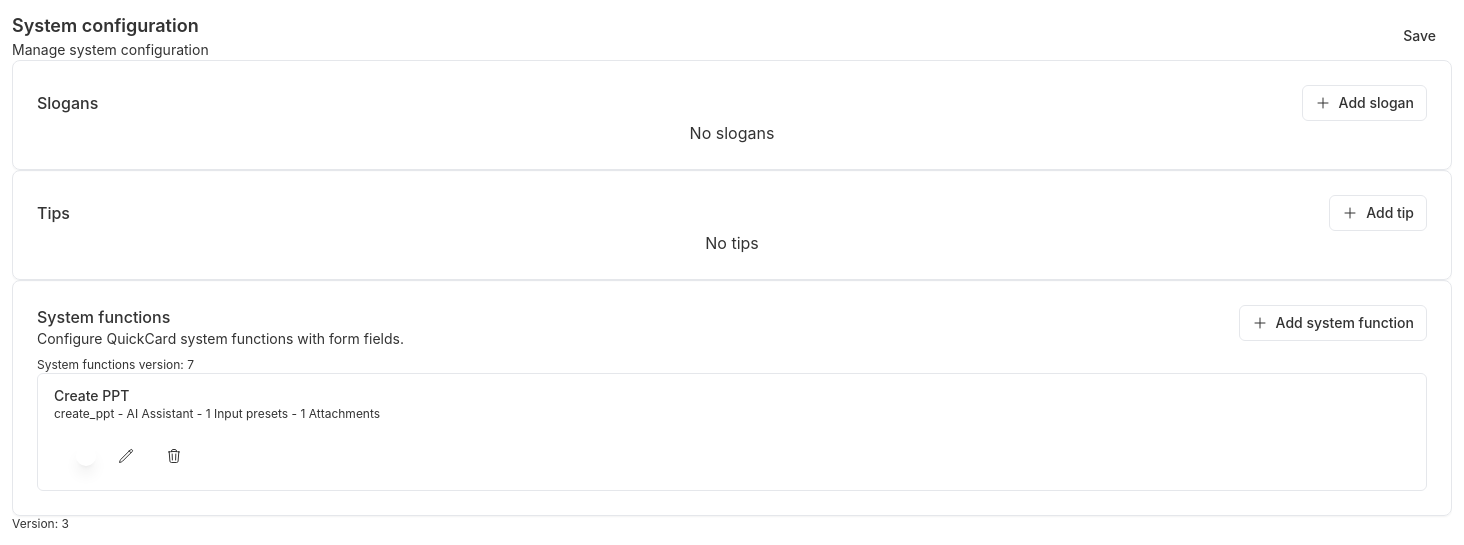
Test: SystemConfigPanel › keeps successful sections when saving partially fails
The image size is (1464, 545).
Expected: the element with test id "quick-launch-functions-section" is shown, left=12, top=280, right=1452, bottom=516
Click the button "Save": (1420,36) left=1387, top=16, right=1452, bottom=56
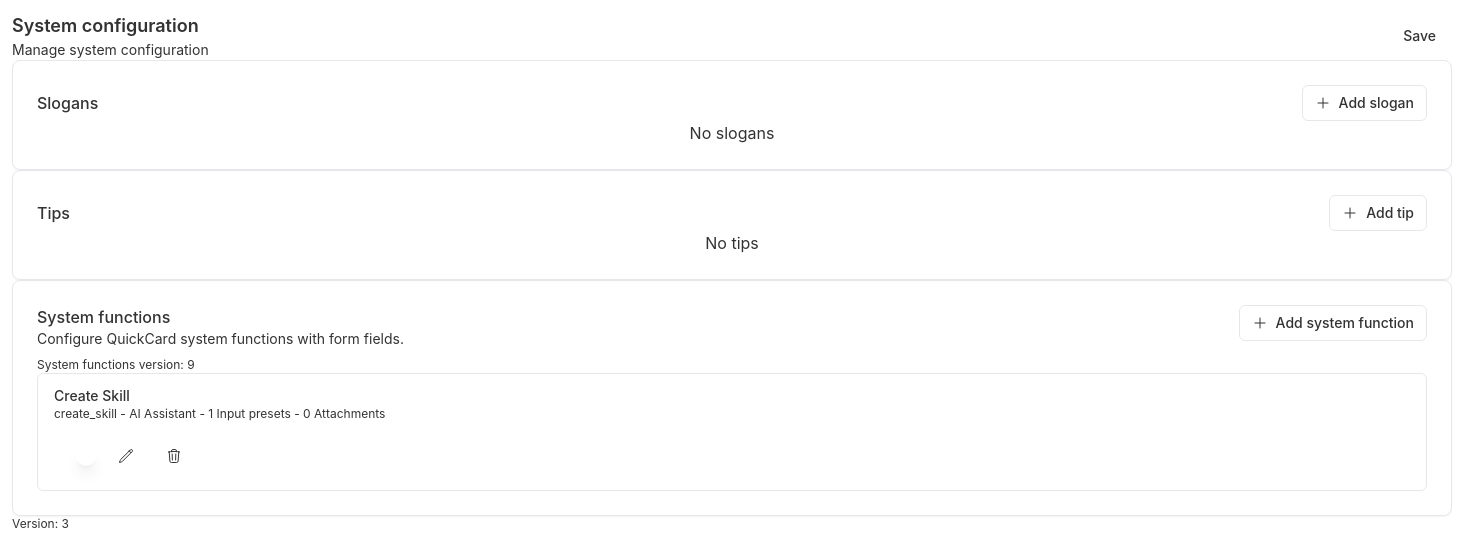
Expected: the text "System functions version: 9" is shown, left=37, top=357, right=195, bottom=372
Expected: the element with test id "quick-launch-function-card-0" shows "Create Skill", left=54, top=387, right=130, bottom=404
